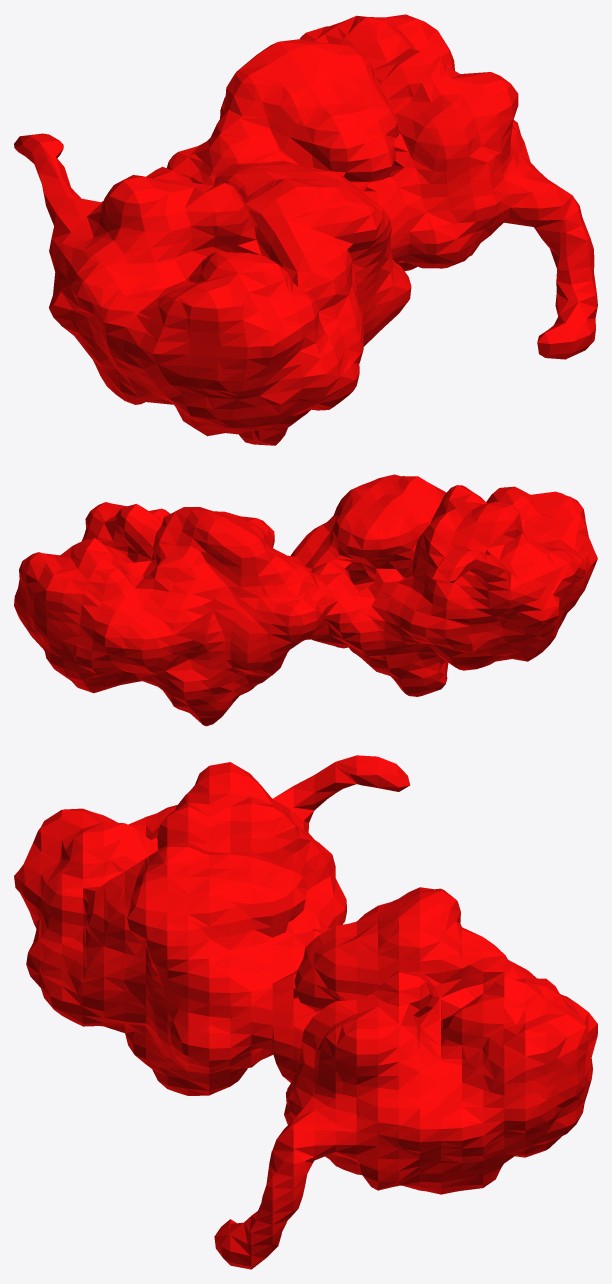
Rendered from uvrD_coarse.dae.
The picture shows the model from 3 angles, top to bottom: view 1: azimuth 30°, elevation 25°; view 2: azimuth 150°, elevation 25°; view 3: azimuth 270°, elevation 25°; orthographic projection. The views are drawn at different scales.
Parts seen in each view (by area): view 1: uvrD; view 2: uvrD; view 3: uvrD.
Boxes of the visible parts, x1,y1,x2,y2 form: uvrD: (14, 14, 597, 445); uvrD: (14, 474, 597, 726); uvrD: (14, 755, 597, 1269).
Bounding box in the file's own units: 141 × 68.8 × 128.
